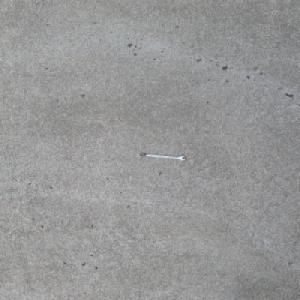Wrench: (137, 152, 186, 160)
